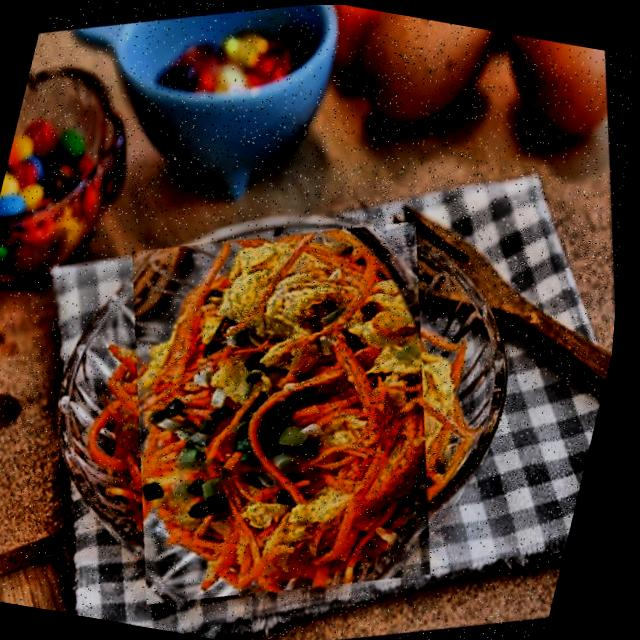Food: (48, 183, 529, 640)
